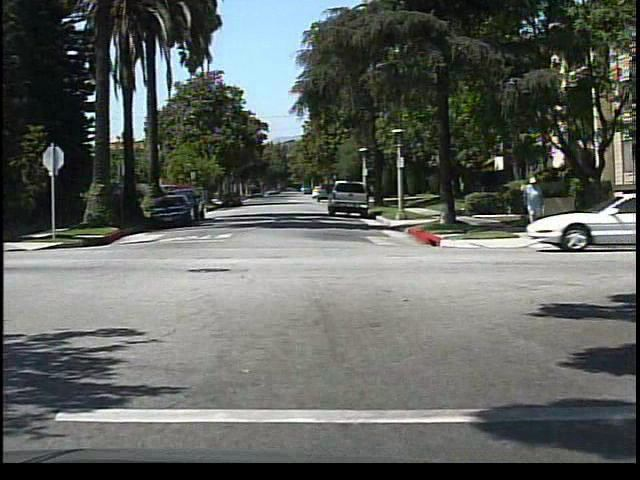person: (519, 173, 547, 230)
